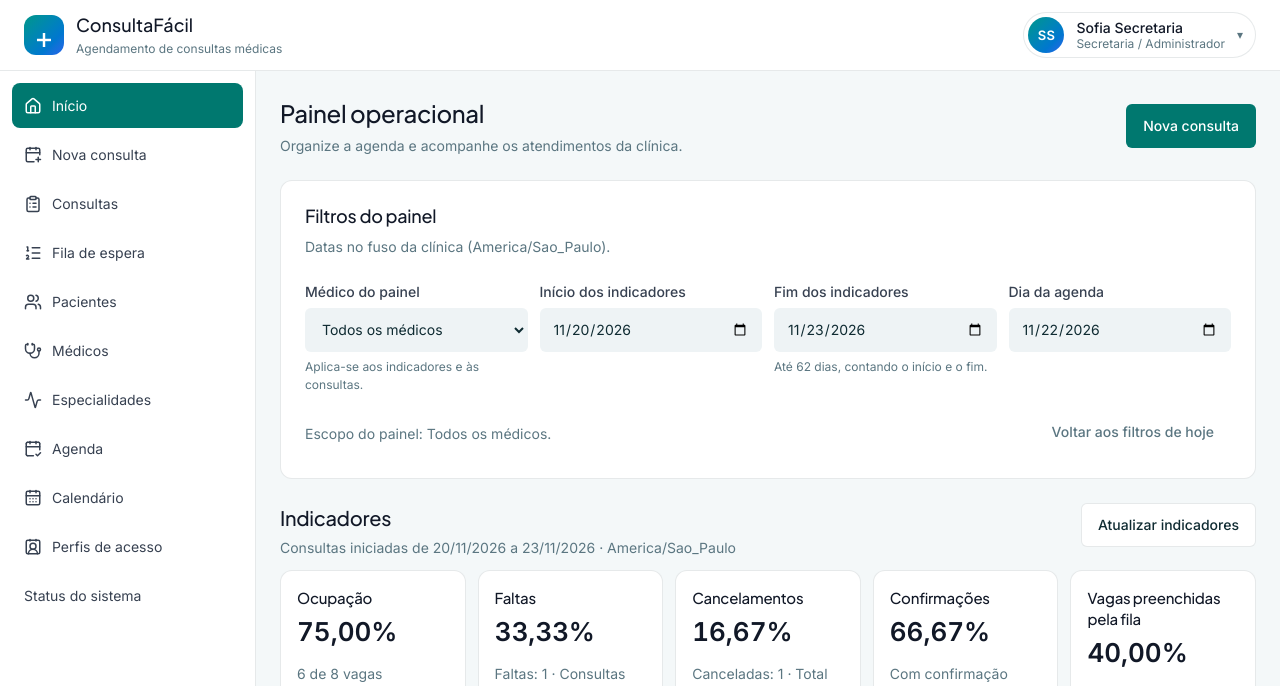
mantém indicadores e consultas da seleção inativa, sem pedir a agenda indisponível
The width and height of the screenshot is (1280, 686).
Select "Bruno Médico (inativo)" in the dropdown labelled "Médico do painel" at (416, 330), box [305,308,528,352]
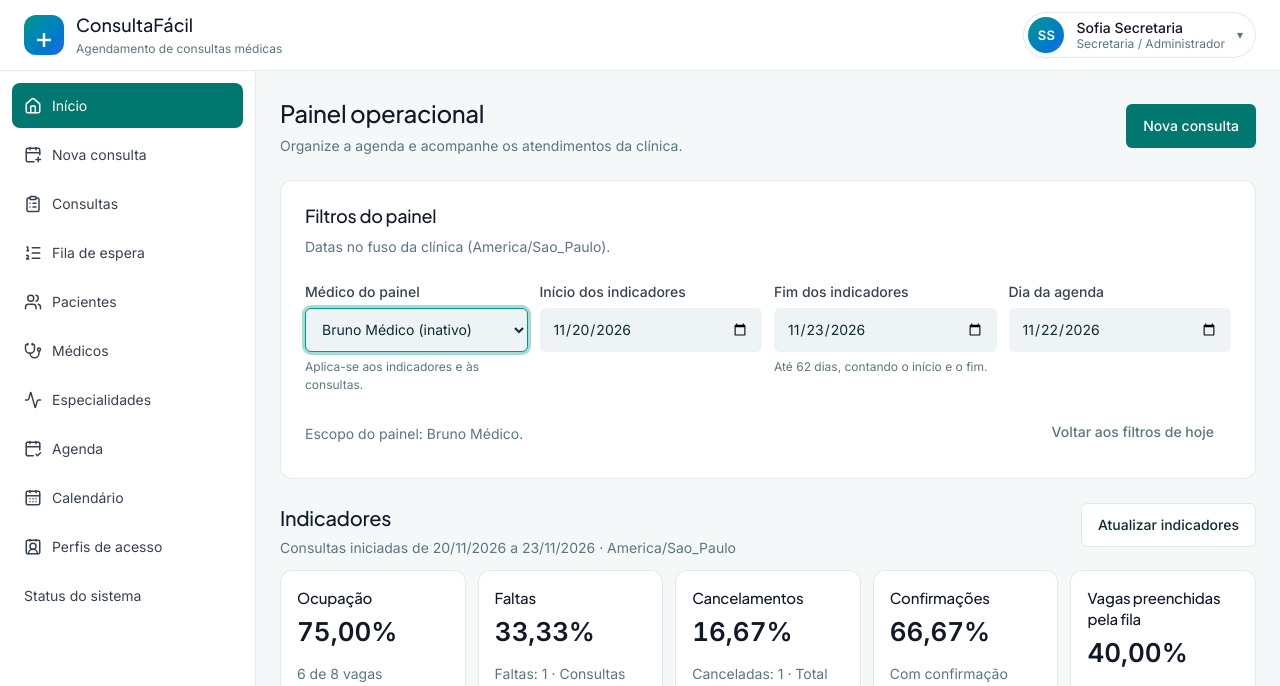
expect the date field labelled "Início dos indicadores" holds "2026-11-20": met, box [540,308,762,352]
expect the date field labelled "Fim dos indicadores" holds "2026-11-23": met, box [774,308,996,352]
Select "Ana Médica" in the dropdown labelled "Médico do painel" at (416, 330), box [305,308,528,352]
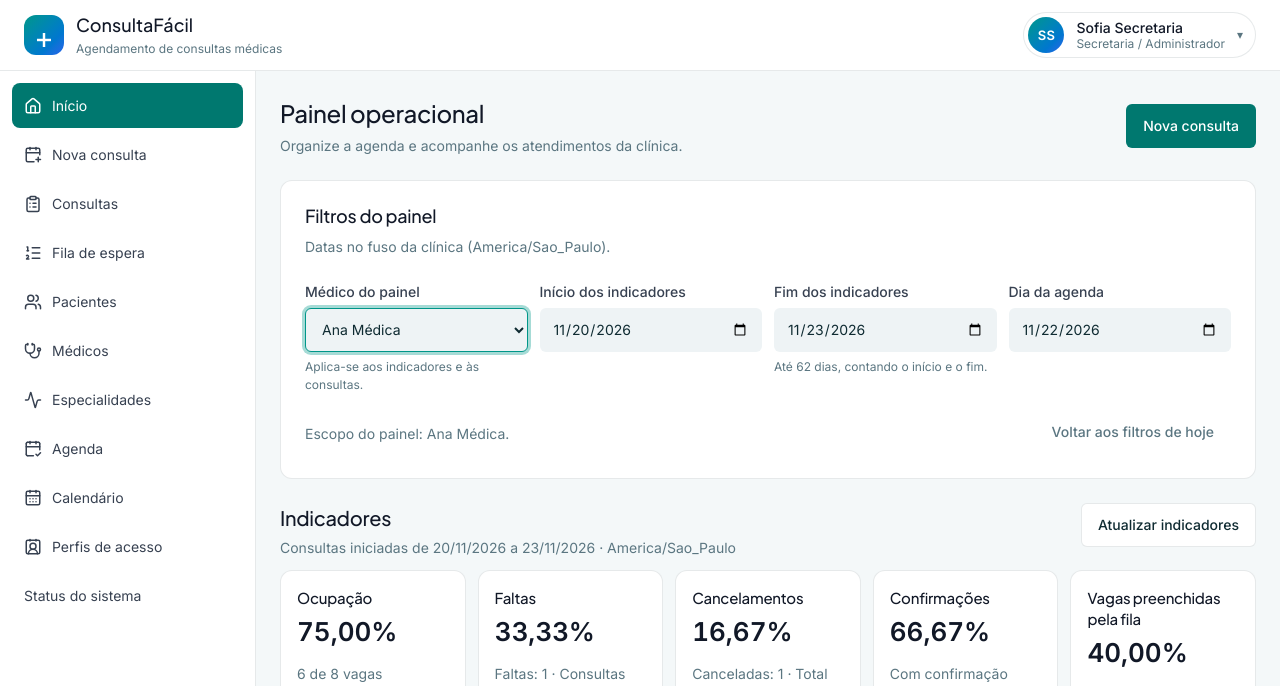
Select "Todos os médicos" in the dropdown labelled "Médico do painel" at (416, 330), box [305,308,528,352]
(page scrolled)
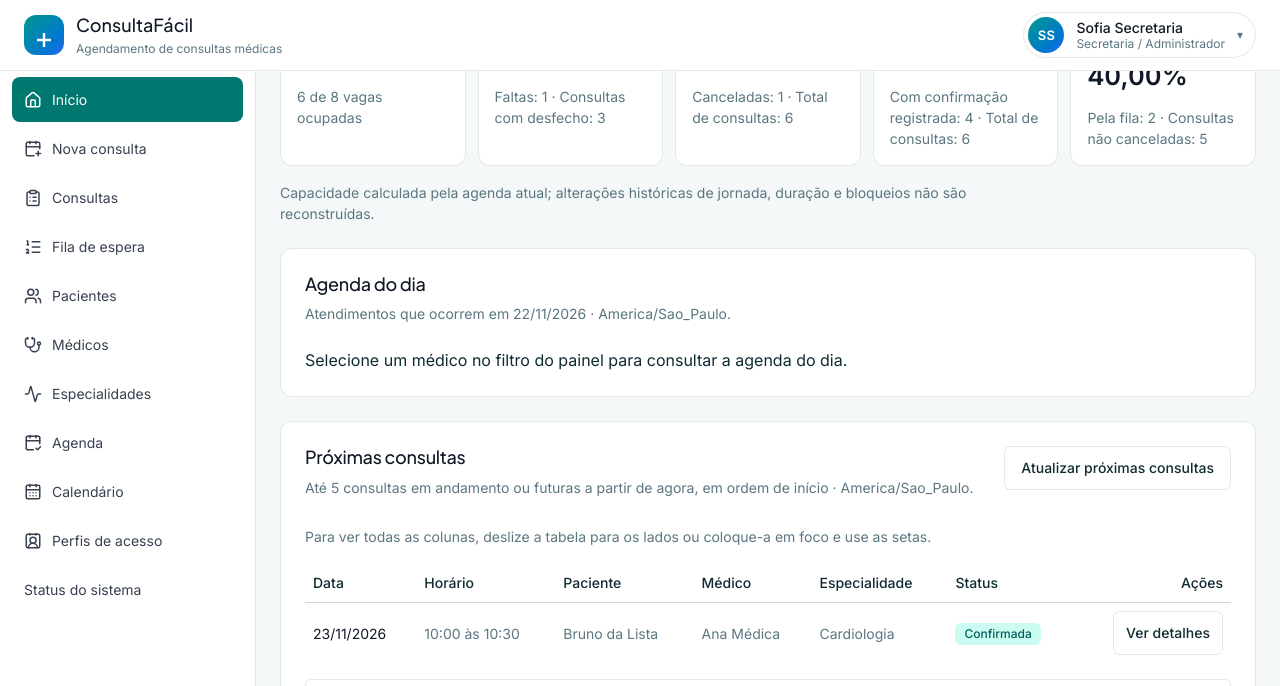
expect the text "Selecione um médico no filtro do painel para consultar a agenda do dia." is shown: met, box [305,350,847,370]
